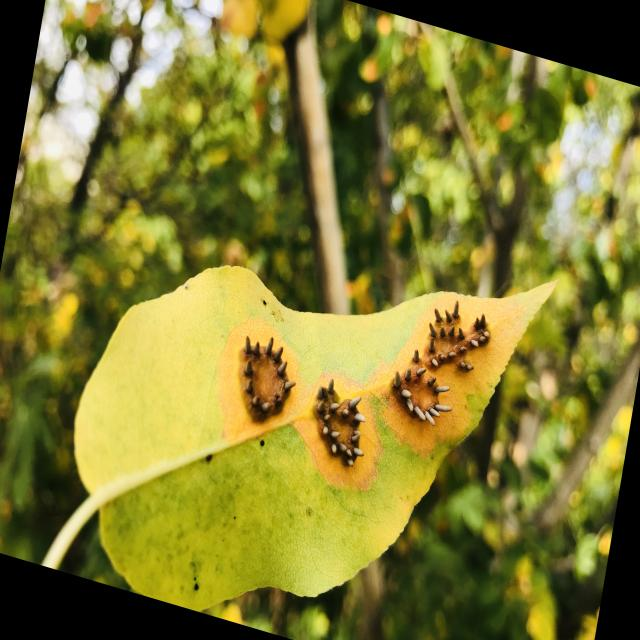Gymnosporangium_Rusts: (54, 262, 560, 612)
